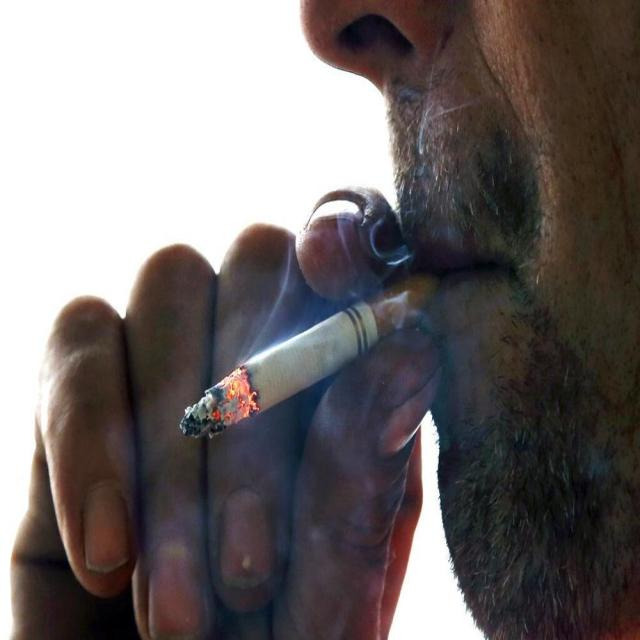cigarette: (178, 278, 441, 439)
